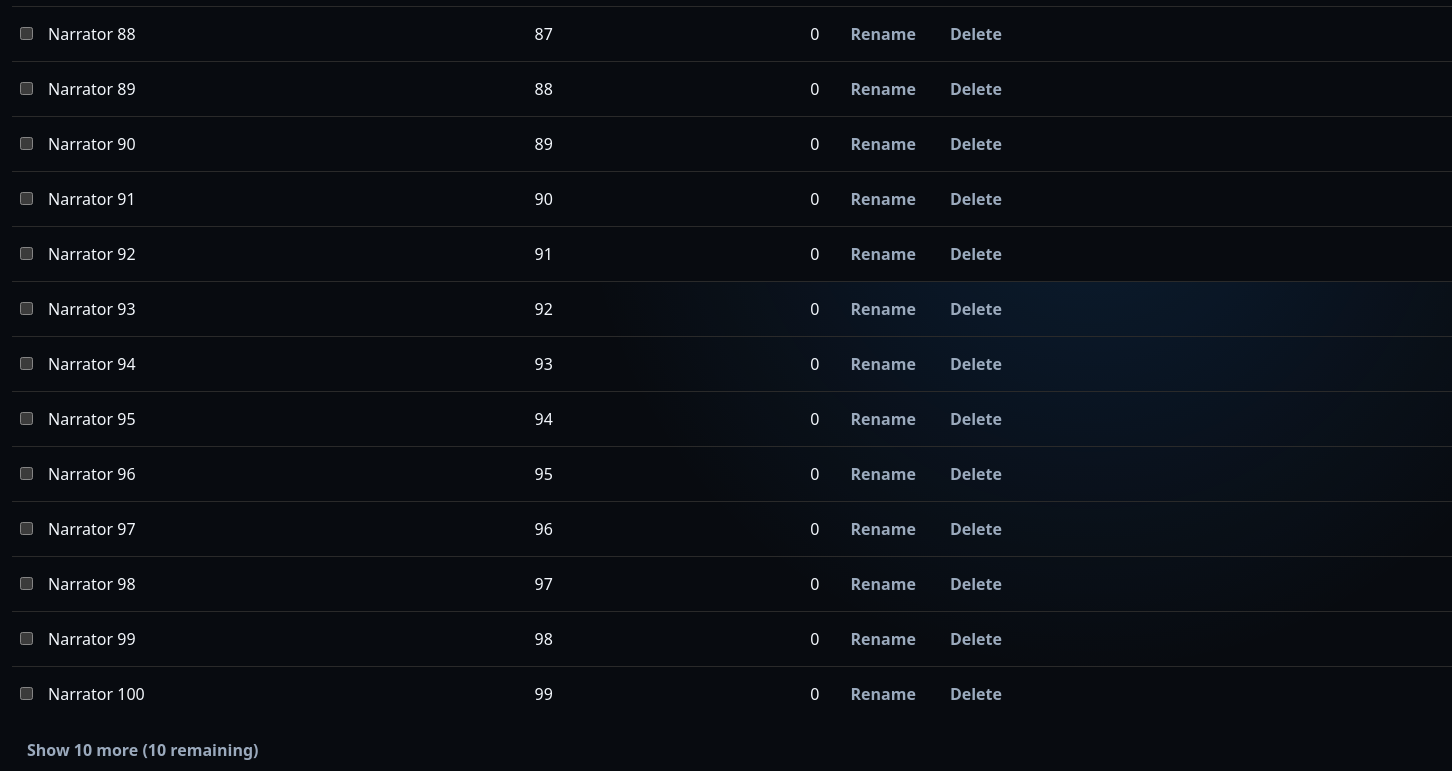
it: LabelManagerView — M34 Task 6d: term table pagination › reveals the next page of rows after clicking Show more
(page scrolled)
What coordinates should you click on to do the following:
click the button "Show 10 more (10 remaining)"
I would click on:
 (143, 750)
Its box is top-left (12, 729), bottom-right (274, 770).
(page scrolled)
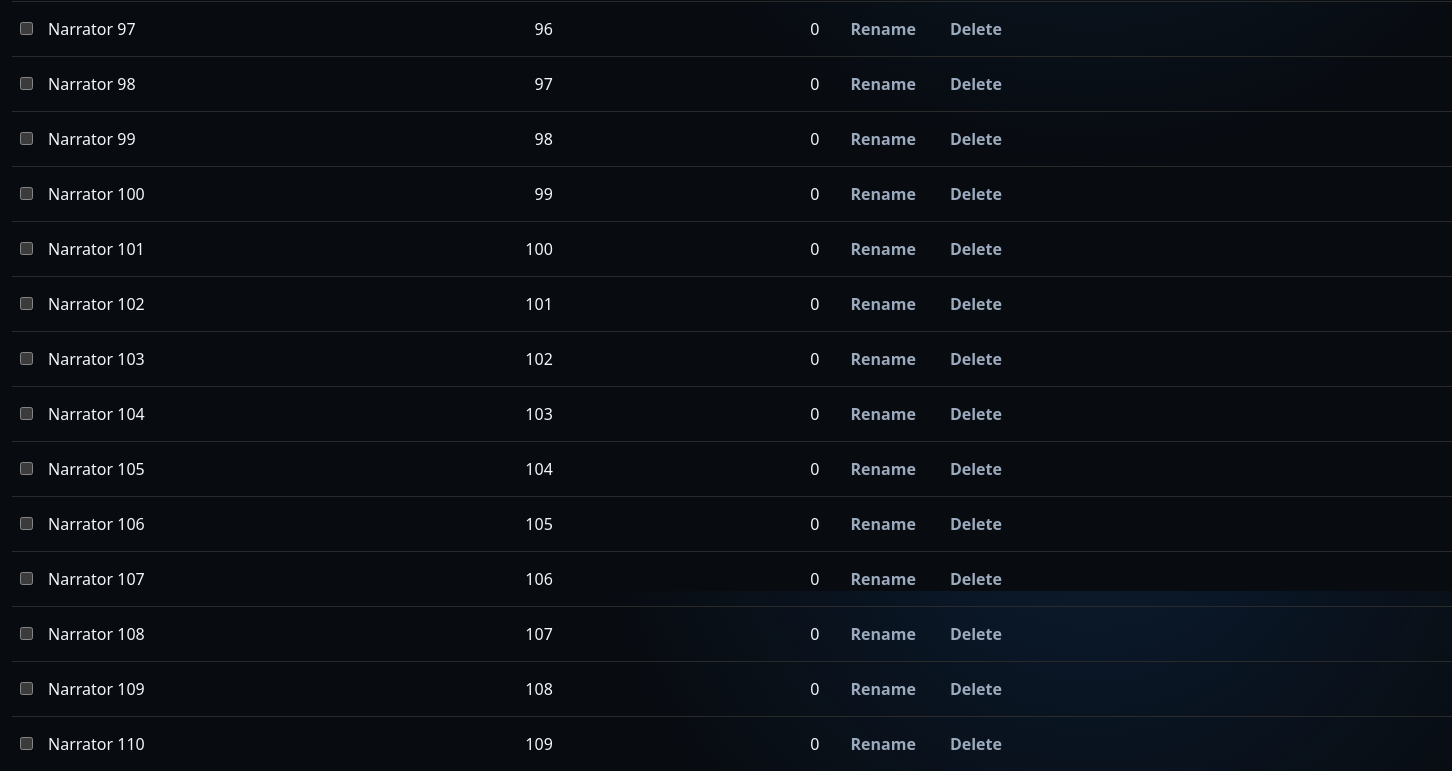
Expected: the button "Show 10 more (10 remaining)" is gone
